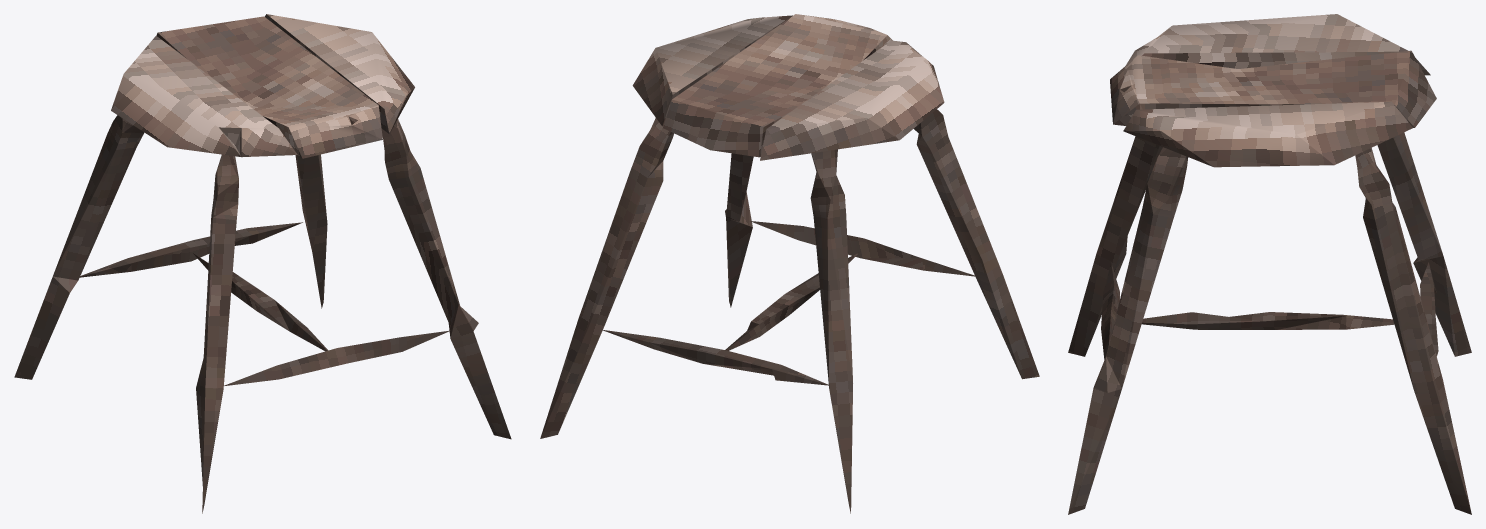
File: wooden_stool_01.glb
The picture shows the model from 3 angles, left to right: view 1: azimuth 30°, elevation 25°; view 2: azimuth 150°, elevation 25°; view 3: azimuth 270°, elevation 25°; orthographic projection. The views are drawn at different scales.
Visible parts, largest first — view 1: wooden_stool_01; view 2: wooden_stool_01; view 3: wooden_stool_01.
Part boxes in pixels (x1,y1,x2,y2): wooden_stool_01: (14, 14, 511, 513); wooden_stool_01: (540, 14, 1039, 513); wooden_stool_01: (1068, 14, 1471, 514).
Bounding box in the file's own units: 0.4202 × 0.4391 × 0.4421.
1 material, 1 textured.
